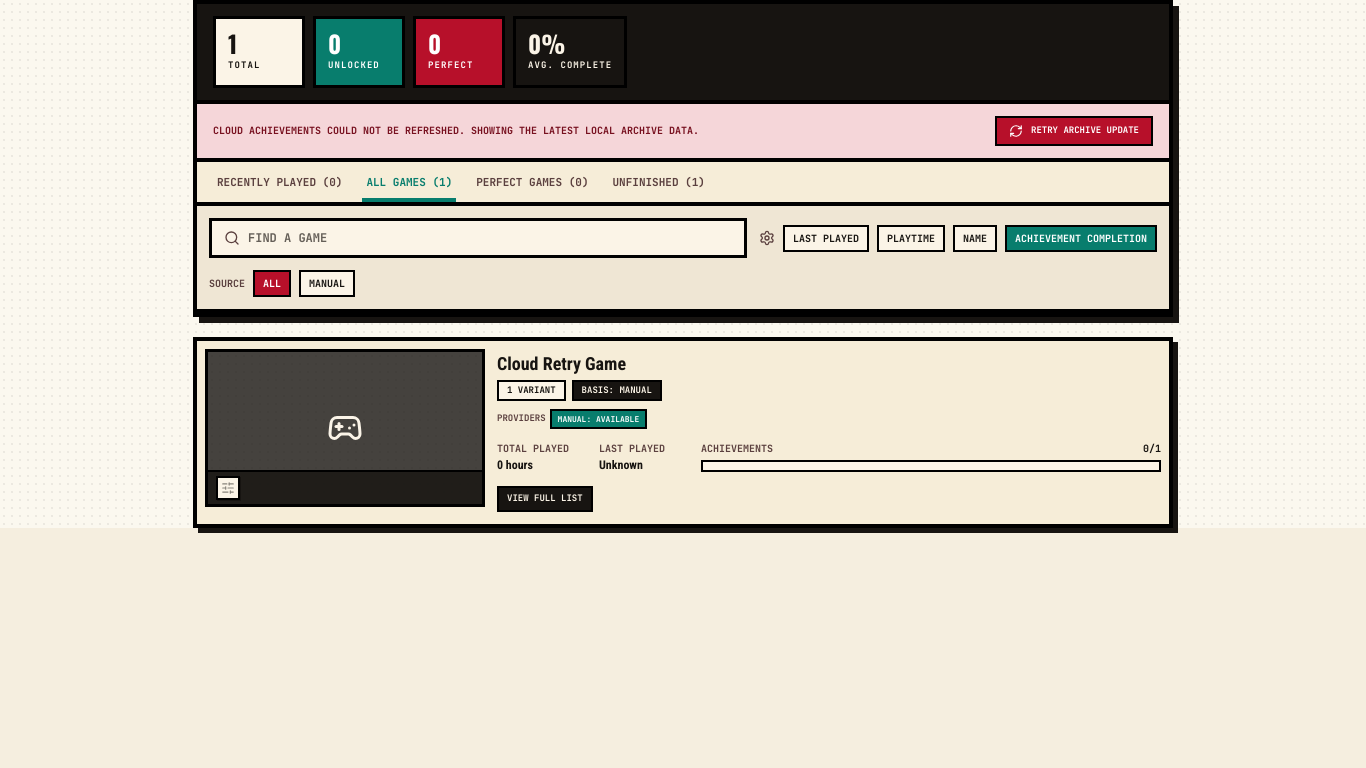
Test: AchievementsPage › shows and retries a cloud hydration warning without hiding local data
This screenshot has width=1366, height=768.
Expected: the heading "Cloud Retry Game" is shown, top-left (497, 353), bottom-right (626, 374)
Expected: the message shows "Cloud achievements could not be refreshed", top-left (213, 124), bottom-right (699, 136)
Click the button "Retry archive update" at (1074, 130), box top-left (995, 116), bottom-right (1153, 146)
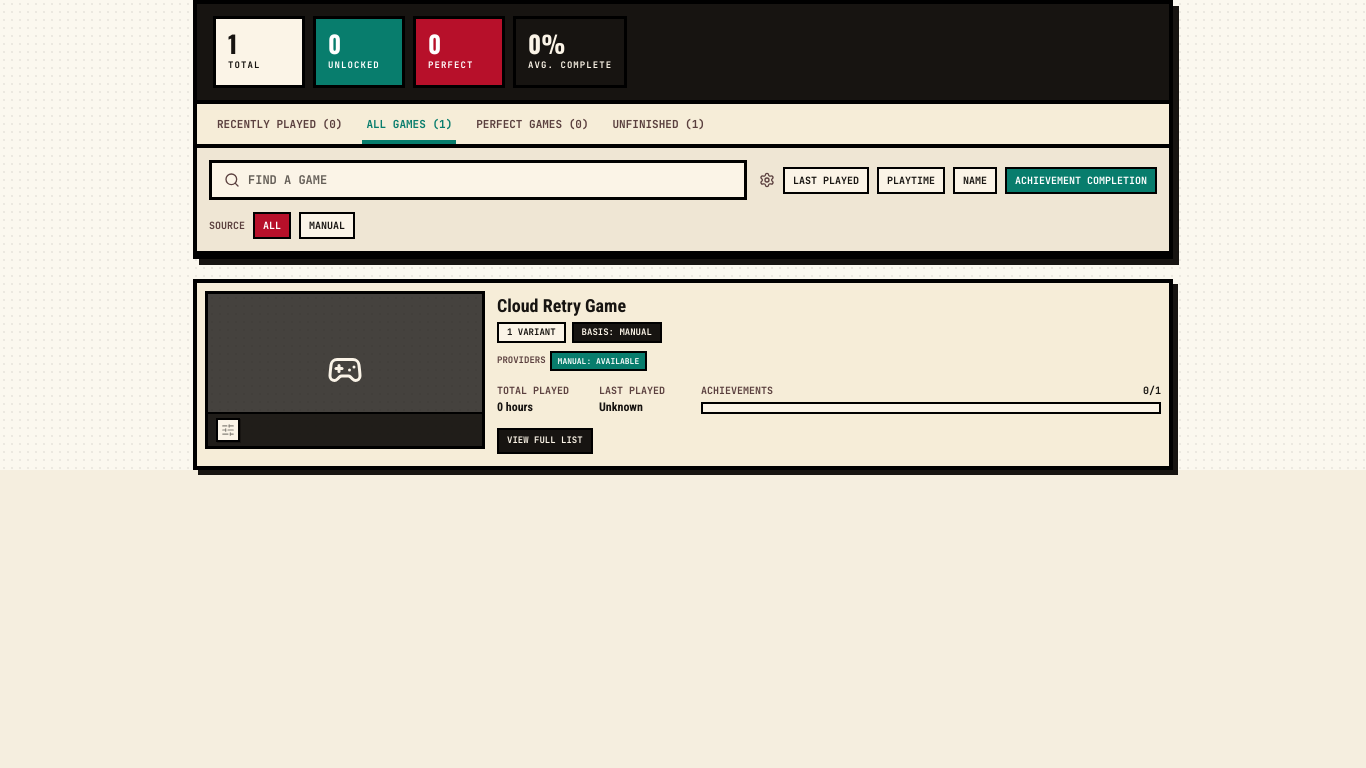
Now the text "Cloud achievements could not be refreshed" is gone
